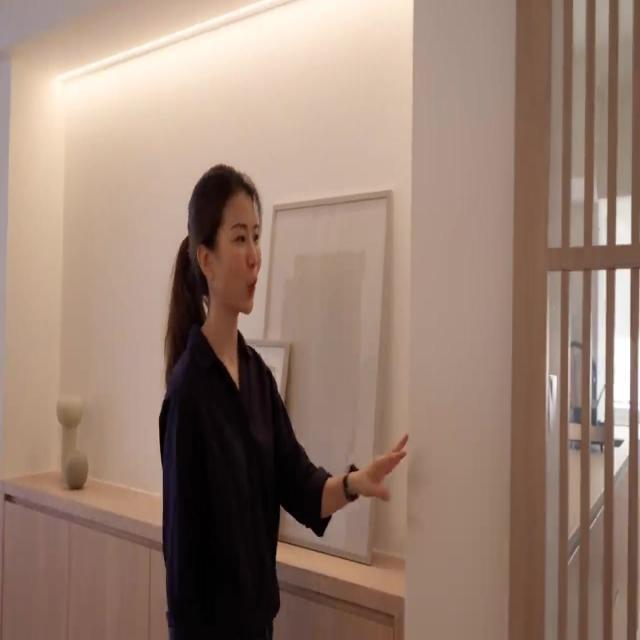obstacle: (1, 468, 406, 638)
person: (158, 162, 408, 640)
